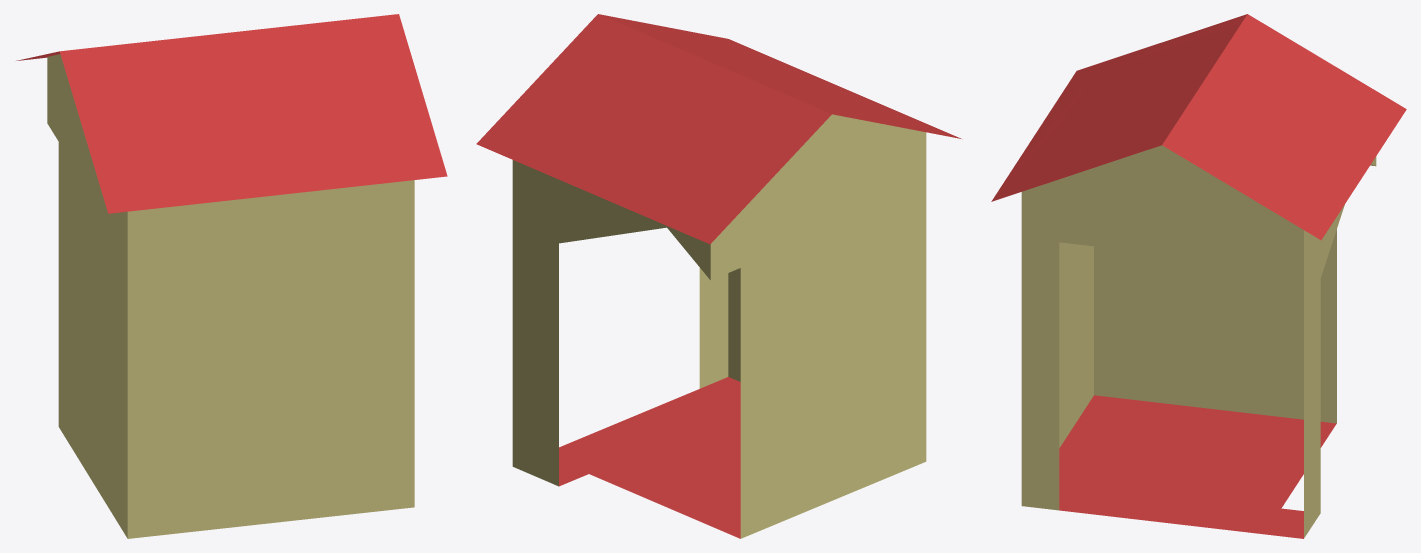
The picture shows the model from 3 angles, left to right: view 1: azimuth 30°, elevation 25°; view 2: azimuth 150°, elevation 25°; view 3: azimuth 270°, elevation 25°; orthographic projection. The views are drawn at different scales.
Size of the model in its own units: 12.07 by 12.49 by 12.87.
